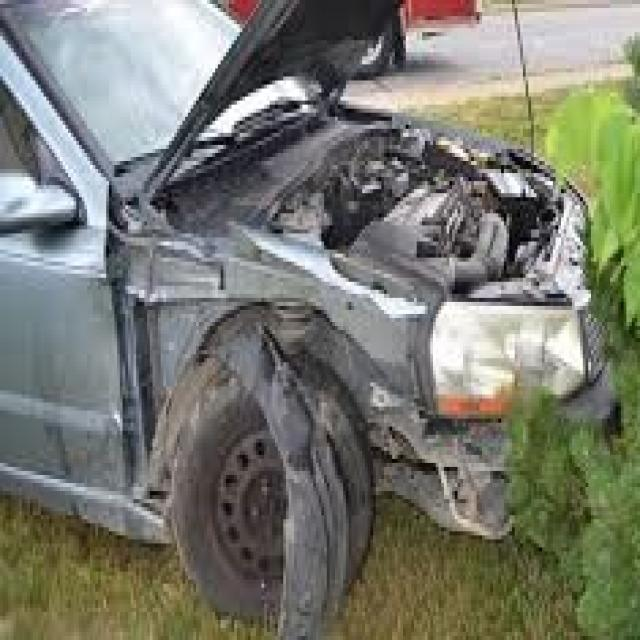moderate: (129, 3, 640, 640)
